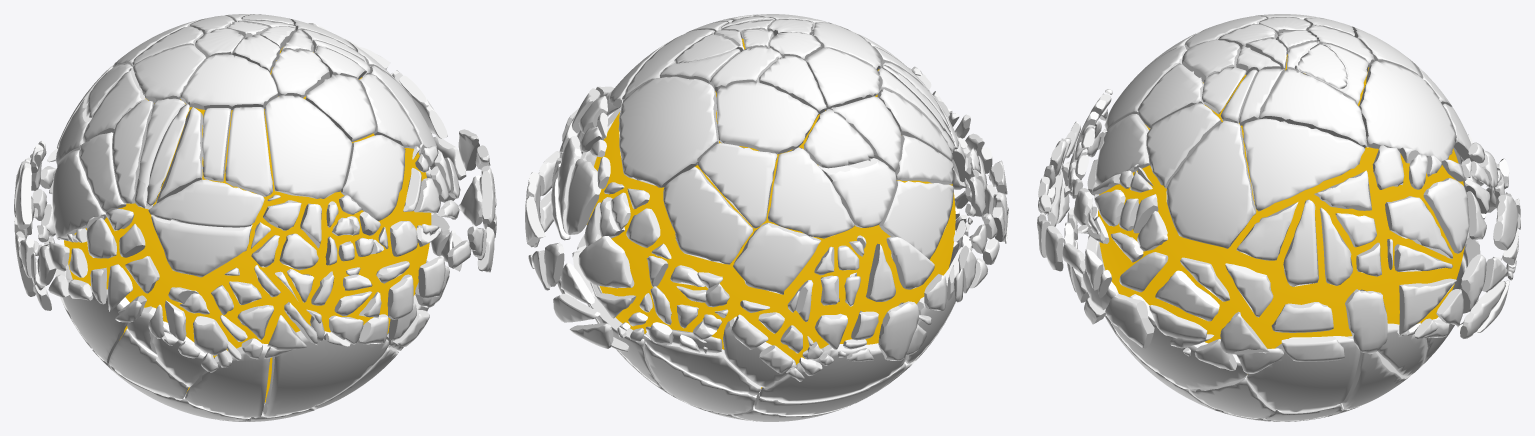
File: world_original.glb
3 views of the same model, side by side, from view 1: azimuth 30°, elevation 25°; view 2: azimuth 150°, elevation 25°; view 3: azimuth 270°, elevation 25° (orthographic).
Parts seen in each view (by area): view 1: Сфера, Сфера_cell.037, Сфера_cell.040, Сфера_cell.130, Сфера_cell.008, Сфера_cell.121, Сфера_cell.107, Сфера_cell.099, Сфера_cell.054, Сфера_cell.019, Сфера_cell.113, Сфера_cell.046 (+66 smaller); view 2: Сфера, Сфера_cell.135, Сфера_cell.032, Сфера_cell.049, Сфера_cell.020, Сфера_cell.055, Сфера_cell.010, Сфера_cell.115, Сфера_cell.019, Сфера_cell.041, Сфера_cell.046, Сфера_cell.026 (+58 smaller); view 3: Сфера, Сфера_cell.039, Сфера_cell.131, Сфера_cell.135, Сфера_cell.033, Сфера_cell.024, Сфера_cell.125, Сфера_cell.056, Сфера_cell.008, Сфера_cell.113, Сфера_cell.058_cell.050, Сфера_cell.058_cell.184 (+61 smaller).
Boxes of the visible parts, <box> form: Сфера: <box>64,47,431,402</box>; Сфера_cell.037: <box>264,95,351,198</box>; Сфера_cell.040: <box>263,330,388,416</box>; Сфера_cell.130: <box>180,54,277,110</box>; Сфера_cell.008: <box>340,135,405,220</box>; Сфера_cell.121: <box>185,343,270,417</box>; Сфера_cell.107: <box>151,215,252,277</box>; Сфера_cell.099: <box>148,179,264,227</box>; Сфера_cell.054: <box>225,107,272,196</box>; Сфера_cell.019: <box>52,150,106,239</box>; Сфера_cell.113: <box>305,74,375,141</box>; Сфера_cell.046: <box>133,44,206,102</box>; Сфера: <box>587,38,955,388</box>; Сфера_cell.135: <box>618,76,718,187</box>; Сфера_cell.032: <box>716,82,818,154</box>; Сфера_cell.049: <box>663,166,752,264</box>; Сфера_cell.020: <box>768,147,854,238</box>; Сфера_cell.055: <box>759,343,906,401</box>; Сфера_cell.010: <box>697,143,777,228</box>; Сфера_cell.115: <box>733,222,820,294</box>; Сфера_cell.019: <box>879,180,953,259</box>; Сфера_cell.041: <box>818,158,896,227</box>; Сфера_cell.046: <box>805,47,879,110</box>; Сфера_cell.026: <box>645,343,756,414</box>; Сфера: <box>1098,54,1464,348</box>; Сфера_cell.039: <box>1166,120,1256,248</box>; Сфера_cell.131: <box>1242,118,1365,211</box>; Сфера_cell.135: <box>1359,60,1456,164</box>; Сфера_cell.033: <box>1247,336,1360,412</box>; Сфера_cell.024: <box>1259,69,1367,148</box>; Сфера_cell.125: <box>1111,294,1247,389</box>; Сфера_cell.056: <box>1146,103,1221,188</box>; Сфера_cell.008: <box>1095,114,1149,184</box>; Сфера_cell.113: <box>1137,63,1204,128</box>; Сфера_cell.058_cell.050: <box>1385,196,1452,258</box>; Сфера_cell.058_cell.184: <box>1345,289,1387,354</box>.
Bounding box in the file's own units: 2.84 × 2.4 × 2.84.
